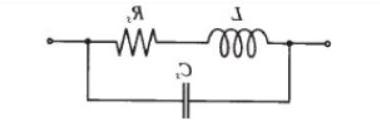inductor: (197, 19, 275, 63)
